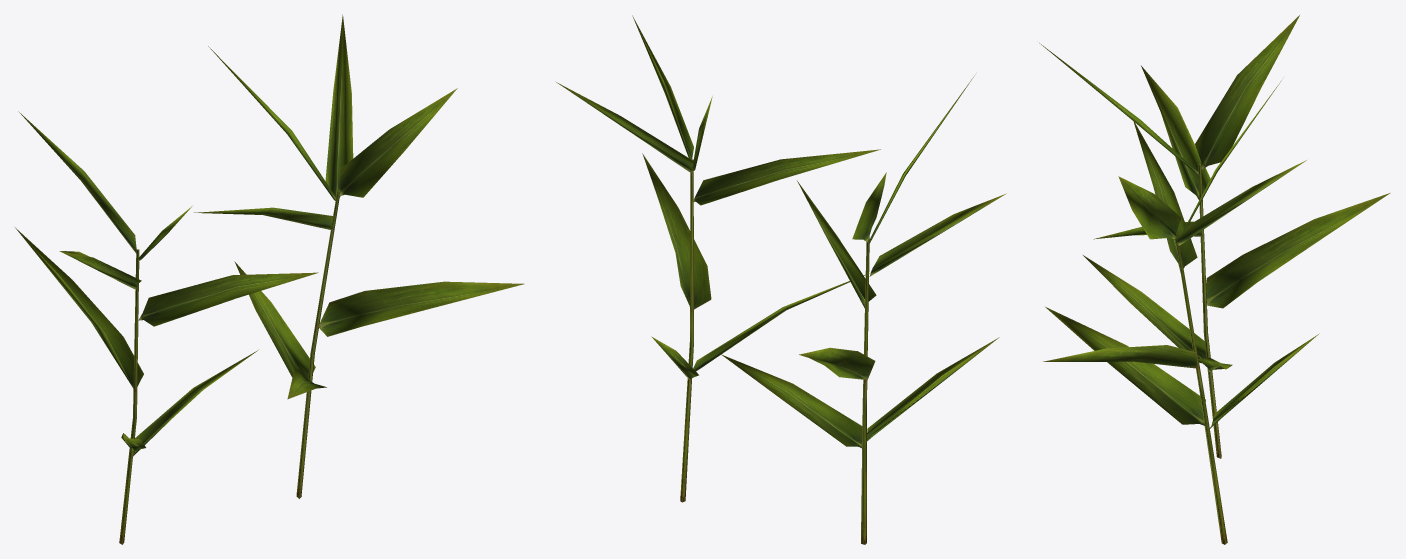
File: Switch Cane_m.FBX
3 views of the same model, side by side, from view 1: azimuth 30°, elevation 25°; view 2: azimuth 150°, elevation 25°; view 3: azimuth 270°, elevation 25° (orthographic).
Parts seen in each view (by area): view 1: Switch Cane, Switch Cane001; view 2: Switch Cane, Switch Cane001; view 3: Switch Cane001, Switch Cane.
Boxes of the visible parts, <box> form: Switch Cane: <box>194,14,524,498</box>; Switch Cane001: <box>15,111,318,544</box>; Switch Cane: <box>555,15,880,502</box>; Switch Cane001: <box>721,74,1006,544</box>; Switch Cane001: <box>1039,15,1390,458</box>; Switch Cane: <box>1043,80,1319,544</box>.
Bounding box in the file's own units: 83.8 × 85.61 × 62.67.
